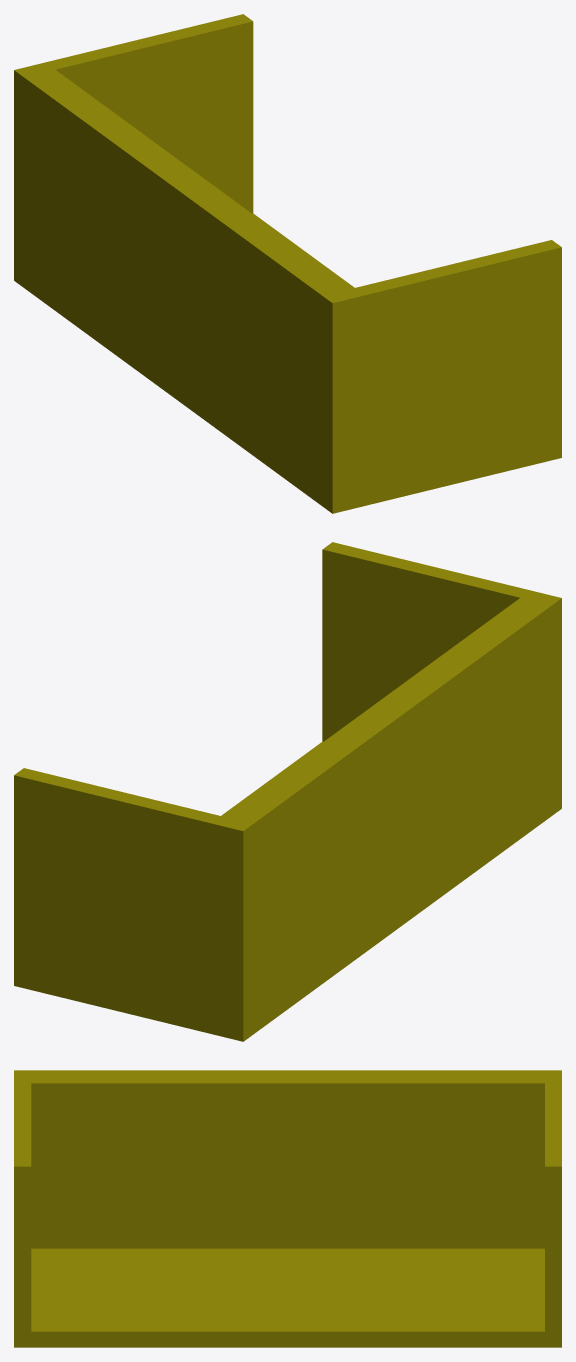
The model's file is SM_Balcon.fbx.
3 renders of one model, top to bottom at view 1: azimuth 30°, elevation 25°; view 2: azimuth 150°, elevation 25°; view 3: azimuth 270°, elevation 25°, orthographic. The views are drawn at different scales.
Visible parts, largest first — view 1: Balcon; view 2: Balcon; view 3: Balcon.
Part boxes in pixels (left/top/right/bottom): Balcon: left=14, top=14, right=561, bottom=513; Balcon: left=14, top=542, right=561, bottom=1041; Balcon: left=14, top=1070, right=561, bottom=1347.
Bounding box in the file's own units: 63.3 × 55.53 × 152.
